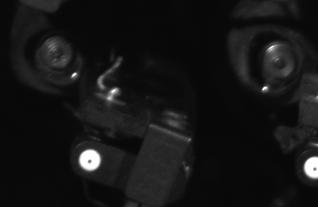fiber: (75, 145, 106, 174), (299, 155, 318, 179)
